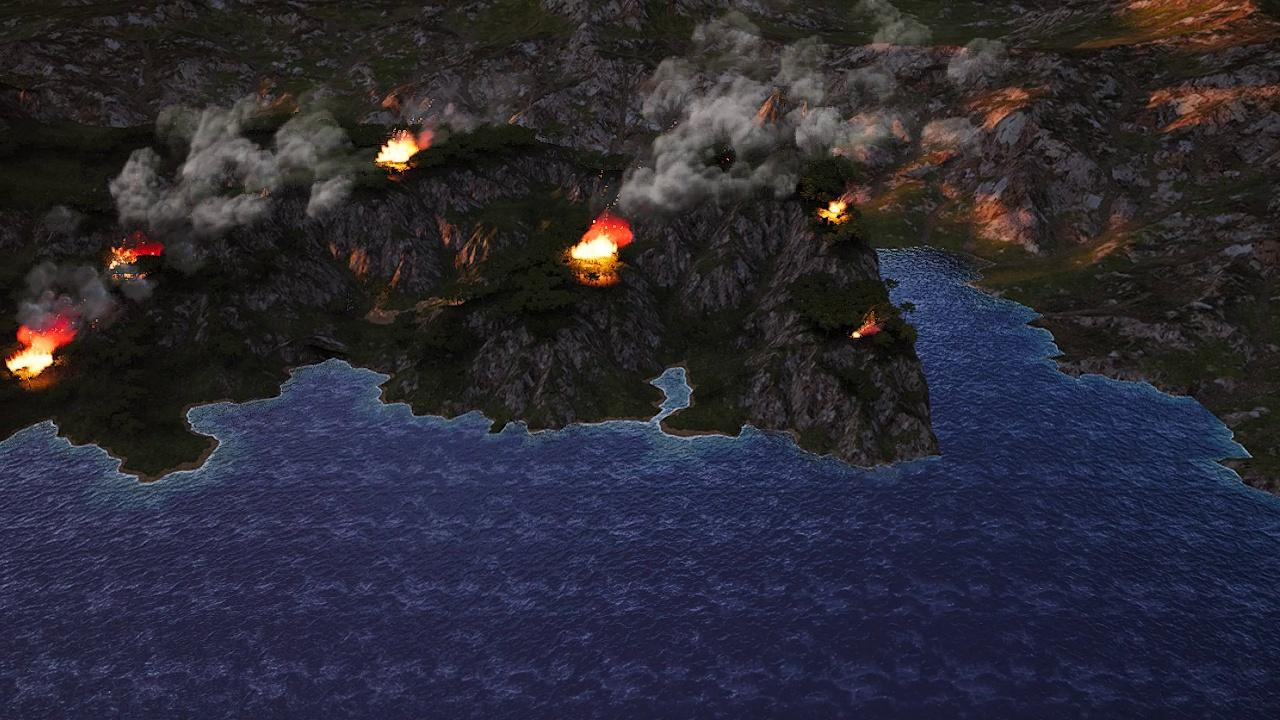fire: (7, 325, 70, 378), (568, 219, 629, 263), (109, 240, 163, 275), (380, 135, 425, 168), (850, 315, 879, 340), (824, 198, 848, 219)
smoke: (614, 0, 997, 218), (103, 94, 351, 239), (16, 260, 156, 331)
